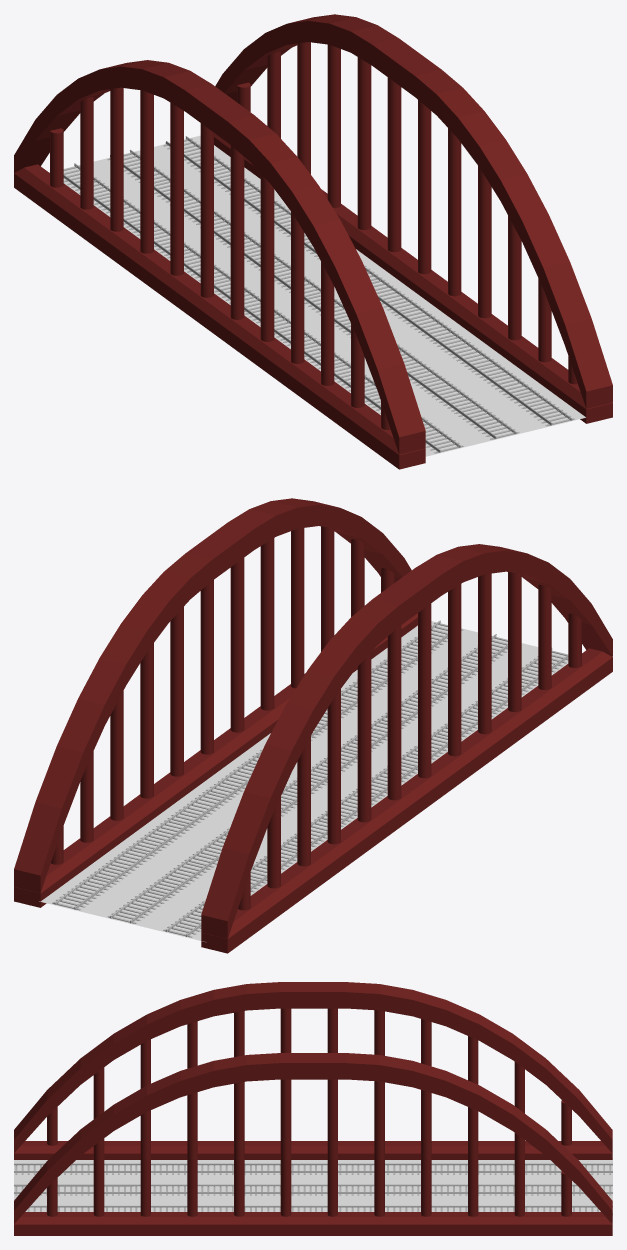
File: BridgeOverThePrecipice.fbx
The picture shows the model from 3 angles, top to bottom: view 1: azimuth 30°, elevation 25°; view 2: azimuth 150°, elevation 25°; view 3: azimuth 270°, elevation 25°; orthographic projection. The views are drawn at different scales.
Visible parts, largest first — view 1: Cube.001, Plane.001, 535353.021, 535353.006, 535353.022, 535353.024, 535353.001, 535353.023, 535353.025; view 2: Cube.001, Plane.001, 535353.010, 535353.030, 535353.029, 535353.027, 535353.009, 535353.028, 535353.026; view 3: Cube.001, Plane.001, 535353.004, 535353.008, 535353.015, 535353.018, 535353.009, 535353.019, 535353.005, 535353.016, 535353.001, 535353.012 (+2 smaller).
Part boxes in pixels (x1,y1,x2,y2): Cube.001: [14, 14, 612, 469]; Plane.001: [49, 135, 585, 456]; 535353.021: [510, 390, 574, 426]; 535353.006: [454, 403, 519, 439]; 535353.022: [471, 362, 536, 397]; 535353.024: [394, 305, 459, 341]; 535353.001: [416, 375, 480, 411]; 535353.023: [433, 333, 497, 369]; 535353.025: [372, 277, 420, 313]; Cube.001: [14, 498, 612, 953]; Plane.001: [39, 621, 568, 942]; 535353.010: [107, 888, 172, 923]; 535353.030: [52, 874, 116, 910]; 535353.029: [90, 846, 155, 881]; 535353.027: [167, 789, 232, 825]; 535353.009: [146, 859, 210, 895]; 535353.028: [129, 818, 193, 853]; 535353.026: [206, 761, 254, 797]; Cube.001: [14, 982, 612, 1235]; Plane.001: [14, 1158, 612, 1221]; 535353.004: [253, 1184, 313, 1195]; 535353.008: [433, 1184, 493, 1195]; 535353.015: [253, 1163, 313, 1174]; 535353.018: [433, 1163, 493, 1174]; 535353.009: [493, 1184, 552, 1195]; 535353.019: [493, 1163, 552, 1174]; 535353.005: [313, 1184, 373, 1195]; 535353.016: [313, 1163, 373, 1174]; 535353.001: [74, 1184, 133, 1195]; 535353.012: [74, 1163, 133, 1174].
Size of the model in its own units: 1608 by 1600 by 5023.
